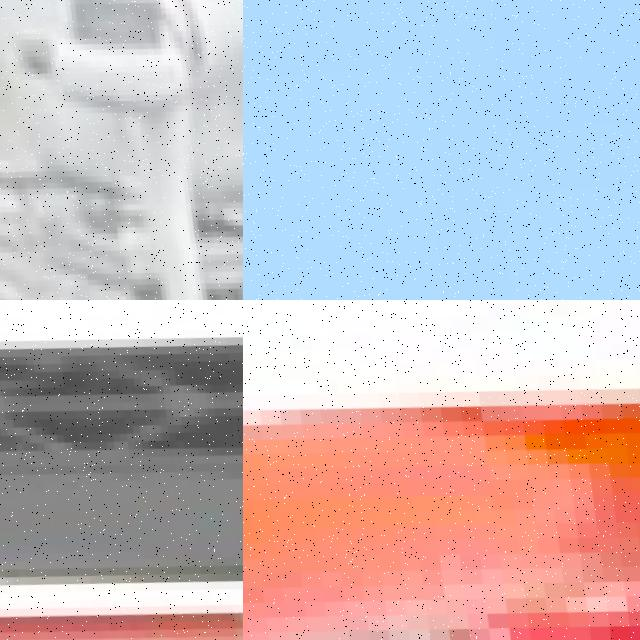drone: (243, 300, 640, 640), (0, 300, 243, 640), (0, 0, 243, 300)
